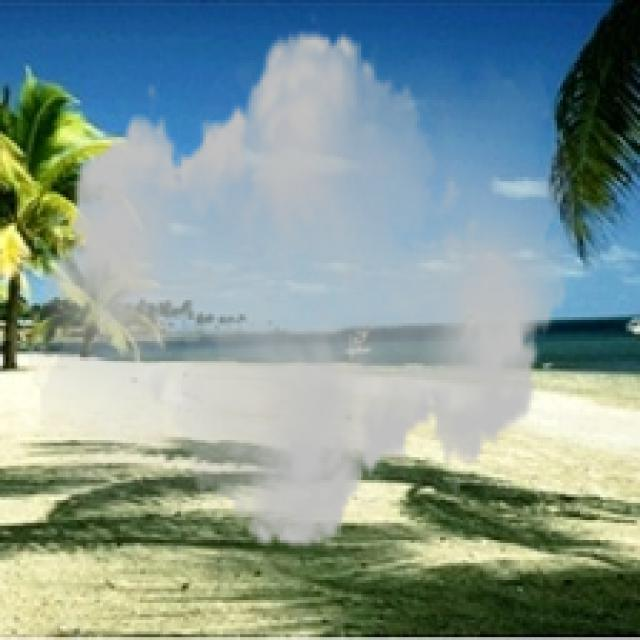Smoke: (28, 9, 580, 572)
